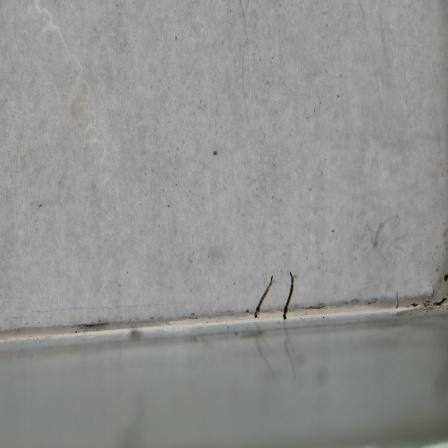Jentik-Nyamuk: (280, 269, 301, 321), (253, 272, 275, 321)
